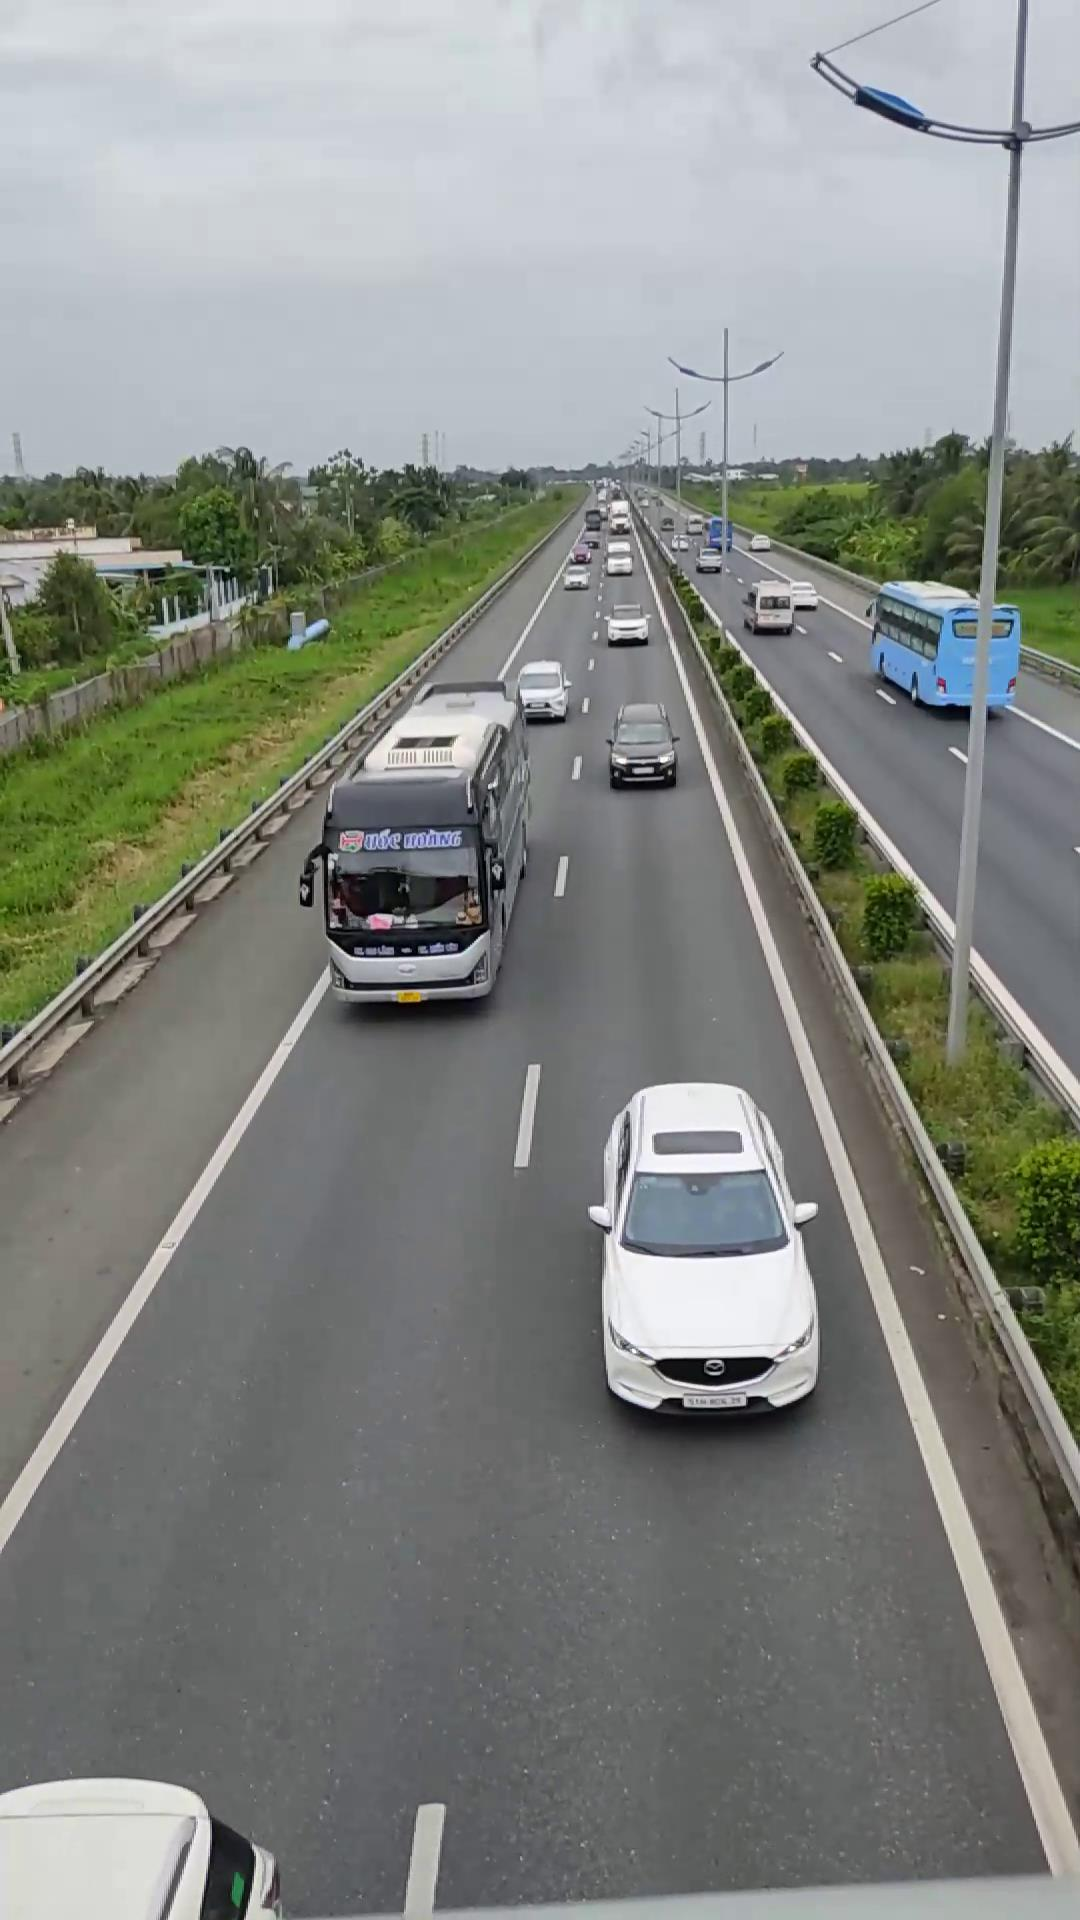bus: (306, 688, 531, 1007)
car: (587, 1080, 825, 1419), (604, 702, 680, 789), (505, 659, 575, 723)
